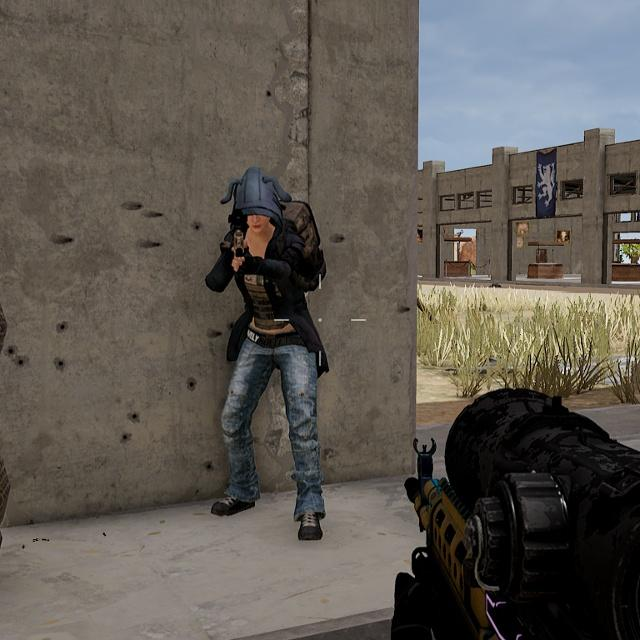head: (223, 167, 286, 243)
people: (201, 162, 340, 547)
